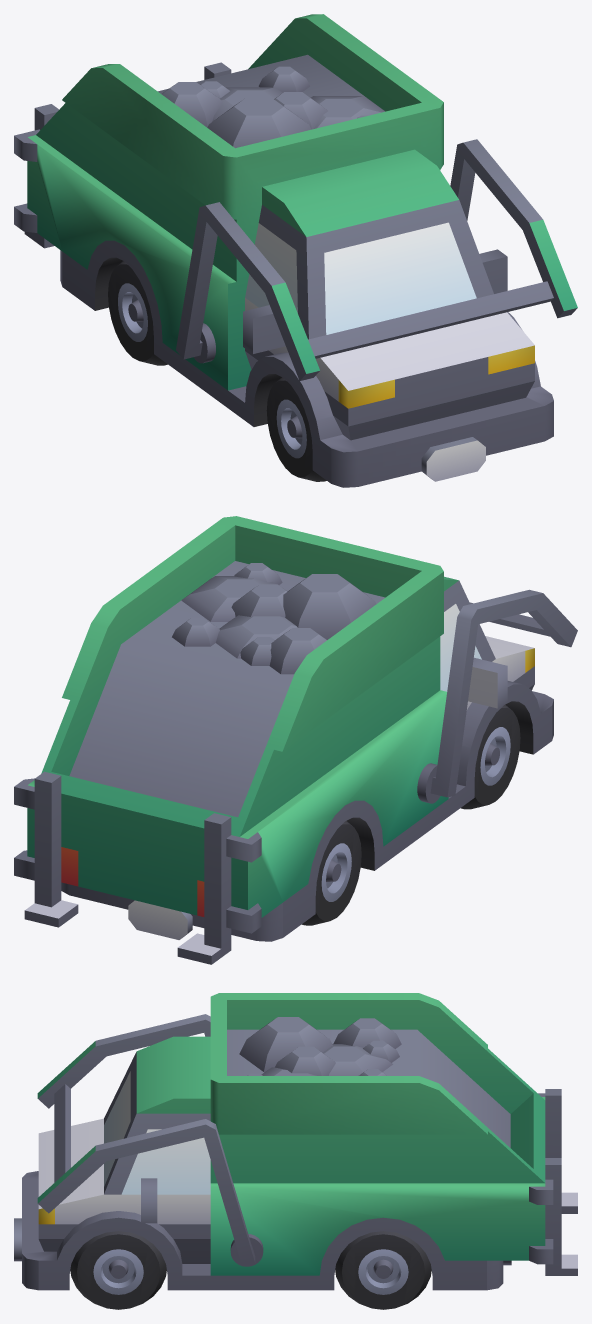
File: car_garbage_truck.glb
3 views of the same model, one above another, from view 1: azimuth 30°, elevation 25°; view 2: azimuth 150°, elevation 25°; view 3: azimuth 270°, elevation 25° (orthographic). The views are drawn at different scales.
Visible parts, largest first — view 1: arm; view 2: arm; view 3: arm.
Part boxes in pixels (x1=…): arm: x1=14, y1=14, x2=577, y2=487; arm: x1=14, y1=516, x2=577, y2=964; arm: x1=14, y1=993, x2=577, y2=1309.
Size of the model in its own units: 1.6 by 1.6 by 3.45.
1 material, 1 textured.
